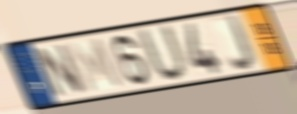4: (185, 20, 223, 77)
6: (112, 32, 152, 88)
J: (227, 13, 258, 74)
M: (65, 35, 127, 96)
N: (34, 42, 88, 101)
U: (134, 22, 190, 85)
